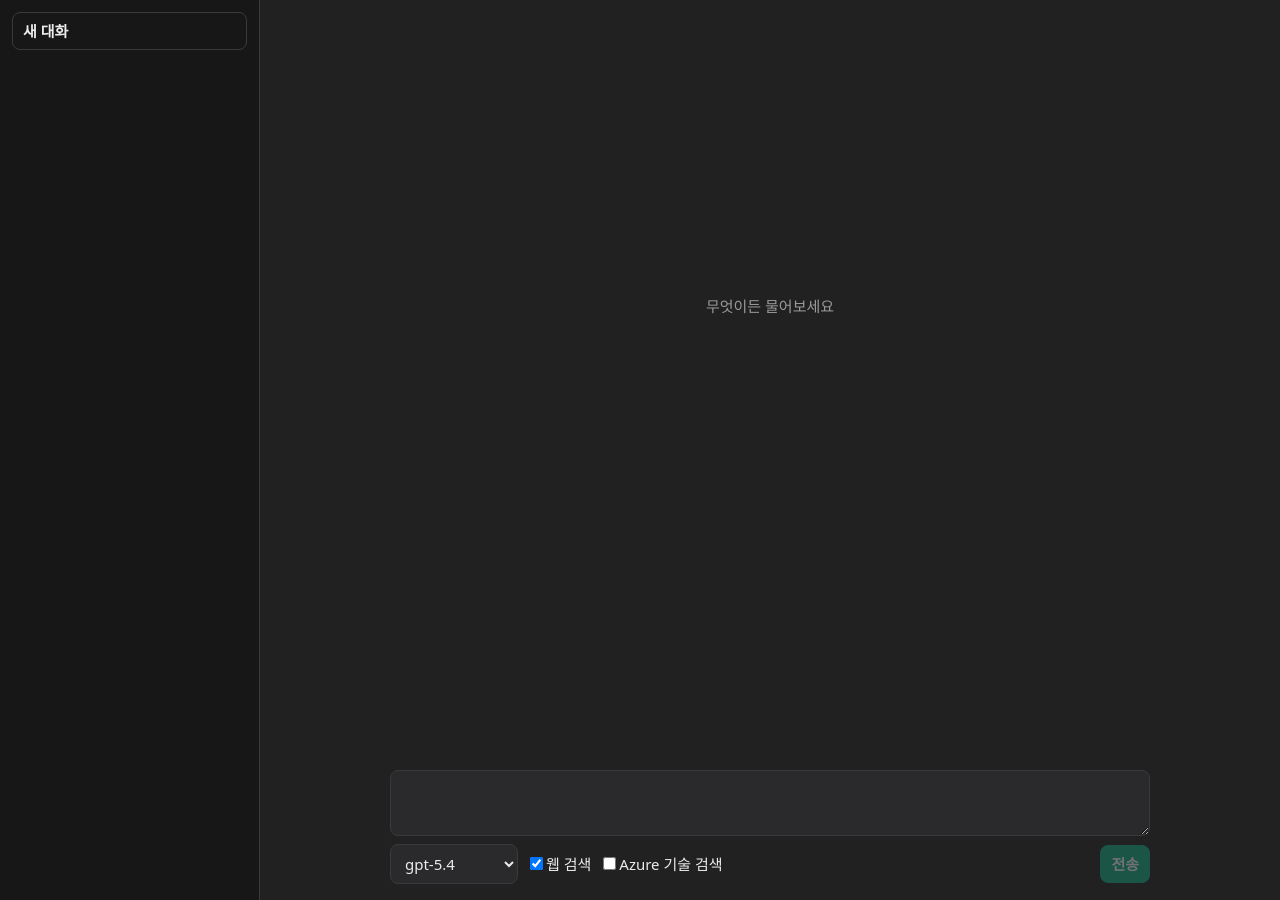
Test: shows an error notice when the stream ends with an error
Step 1. Type "hi" into the text box → (770, 803), box [390, 770, 1150, 836]
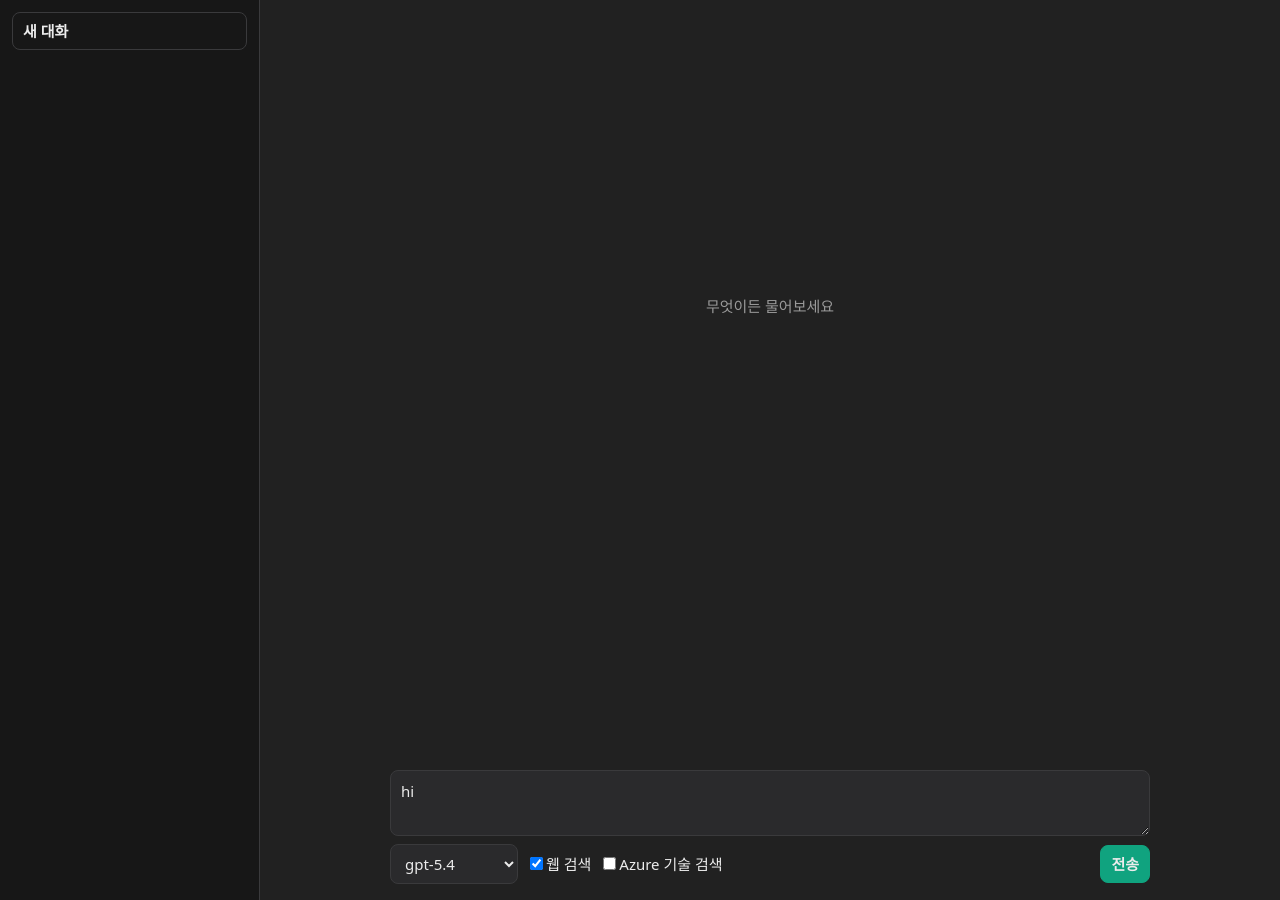
Step 2. Press Enter in the text box, box [390, 770, 1150, 836]
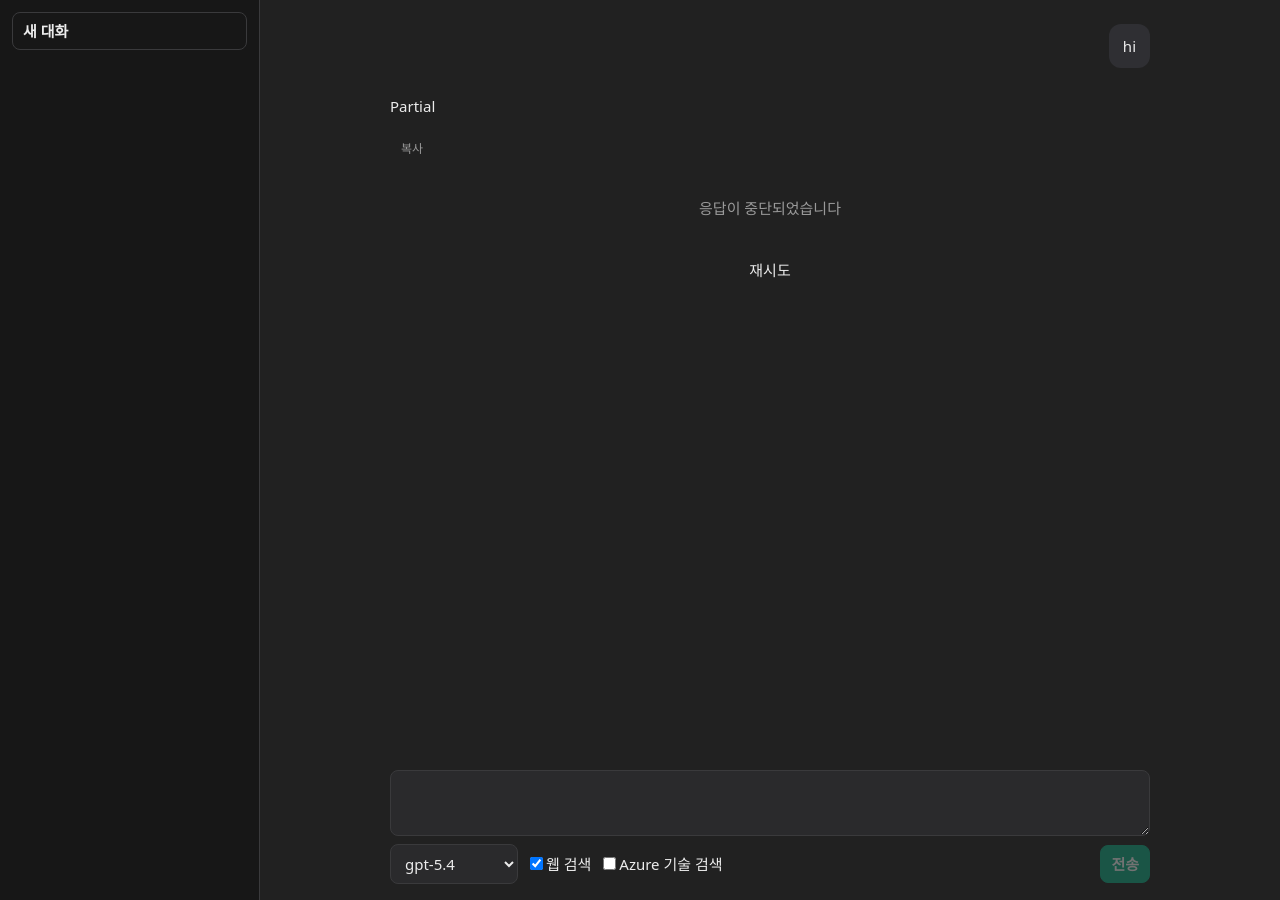
Expected: the text "Partial" is shown, [390, 96, 435, 116]
Expected: the text "응답이 중단되었습니다" is shown, [699, 198, 841, 218]
